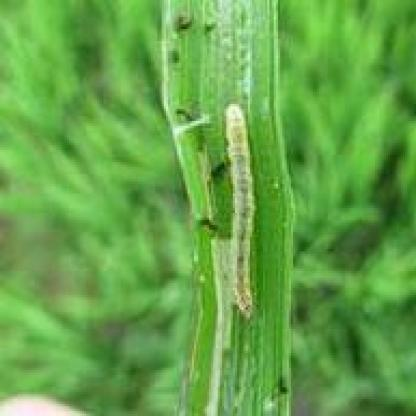leaf-folder: (211, 91, 277, 327)
